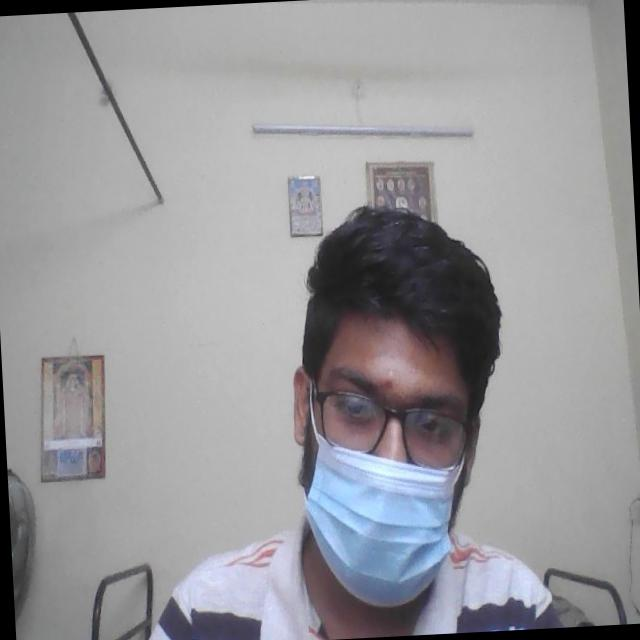Focused: (293, 320, 468, 598)
